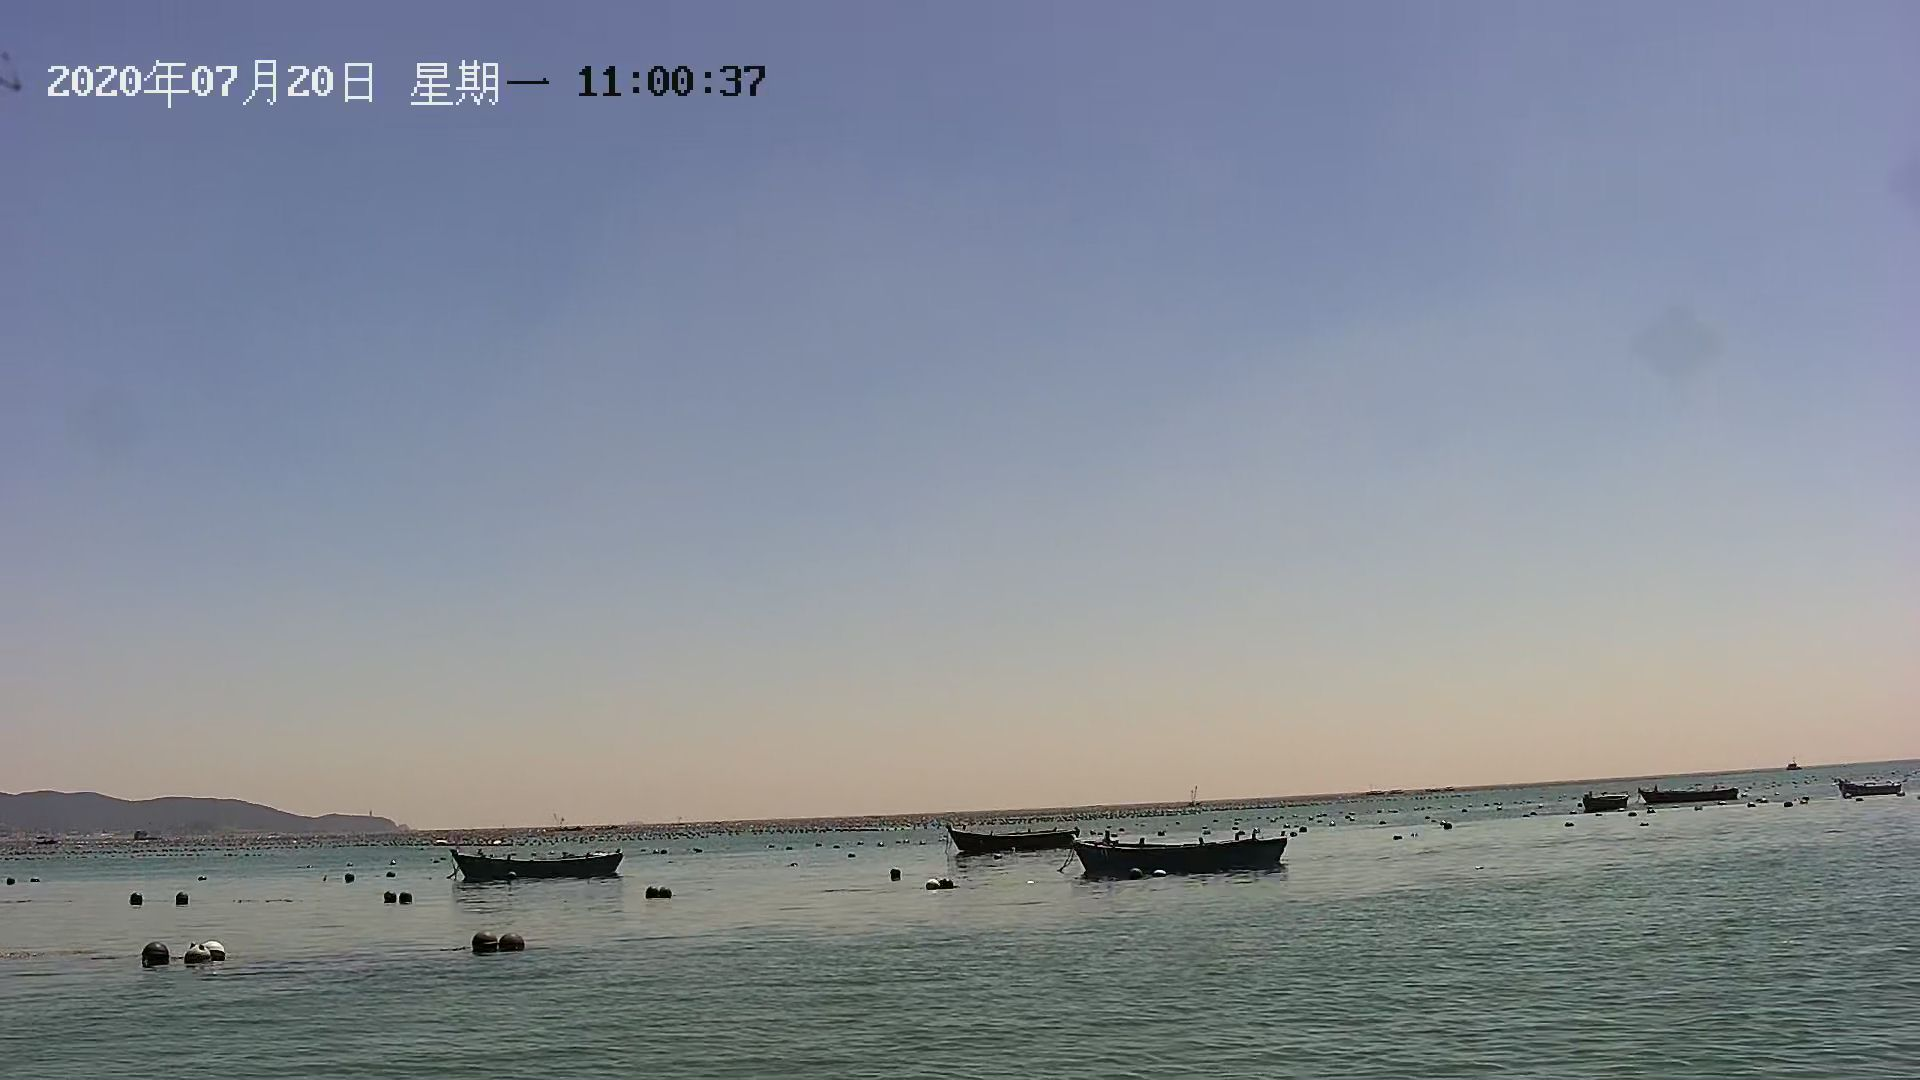ball: (140, 938, 171, 972), (465, 928, 500, 957), (497, 927, 533, 953), (183, 938, 210, 969), (167, 891, 196, 911)
boat: (1077, 835, 1284, 878), (447, 840, 625, 885), (939, 822, 1077, 855), (1638, 783, 1745, 806), (1837, 773, 1912, 802), (1578, 785, 1634, 818)
